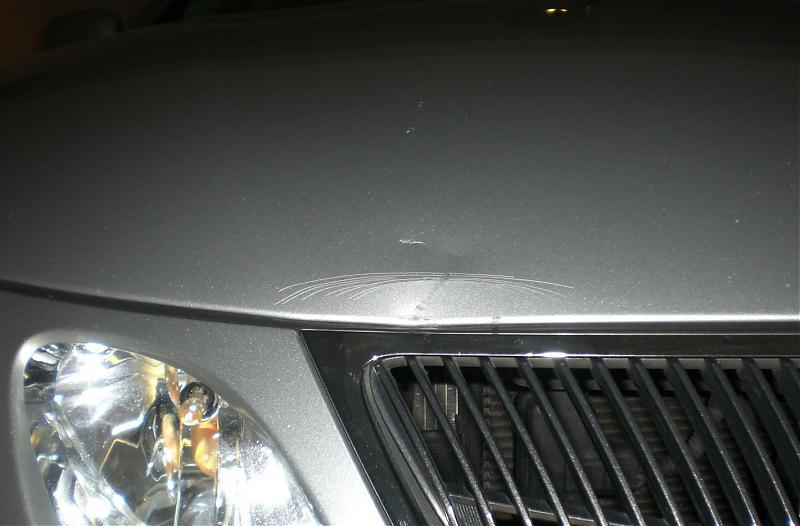bonnet-dent: (0, 3, 799, 416)
